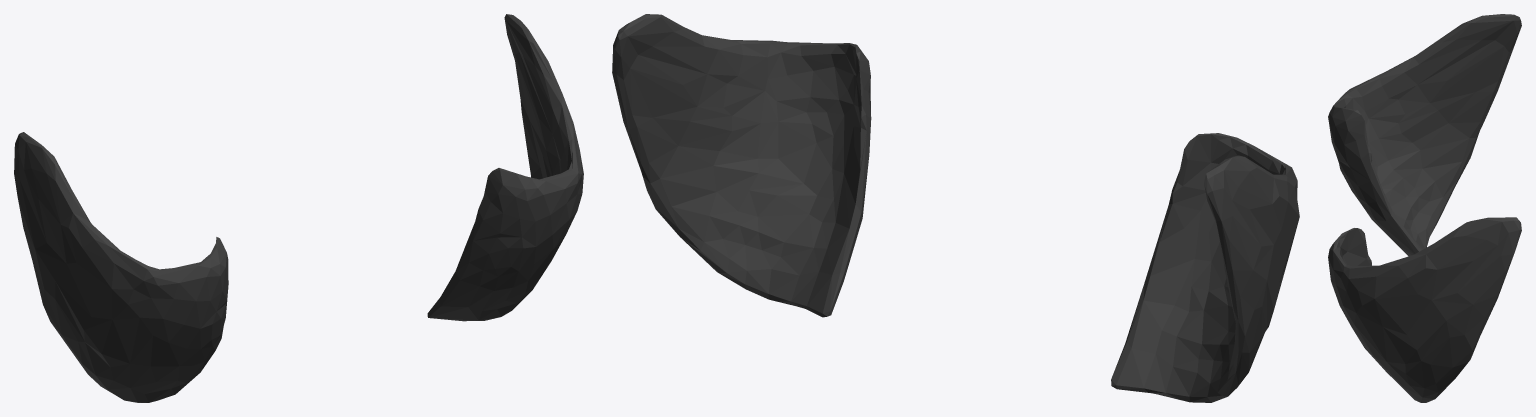
Rendered from fascia_lata.glb.
The picture shows the model from 3 angles, left to right: view 1: azimuth 30°, elevation 25°; view 2: azimuth 150°, elevation 25°; view 3: azimuth 270°, elevation 25°; orthographic projection. The views are drawn at different scales.
Parts seen in each view (by area): view 1: fascia_lata; view 2: fascia_lata; view 3: fascia_lata.
Part boxes in pixels (x1,y1,x2,y2): fascia_lata: [14, 14, 583, 402]; fascia_lata: [612, 14, 1299, 402]; fascia_lata: [1328, 14, 1521, 402].
Size of the model in its own units: 0.00906 by 0.0042 by 0.00348.
Materials: 1 (1 with a texture image).
